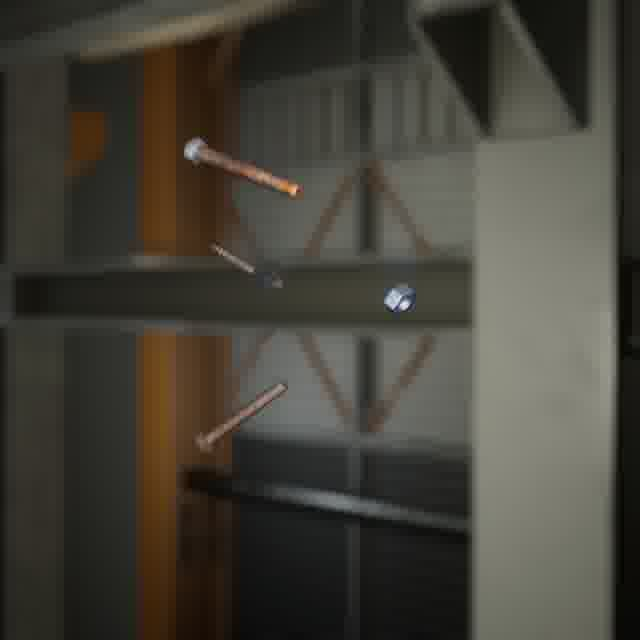bolt: (179, 133, 307, 203), (190, 375, 292, 458), (205, 239, 287, 298)
nut: (379, 278, 419, 320)
